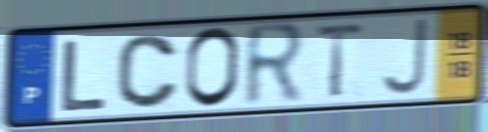C: (114, 32, 182, 111)
J: (377, 16, 430, 99)
L: (58, 37, 110, 114)
O: (182, 25, 242, 111)
R: (242, 18, 310, 112)
T: (312, 20, 369, 101)
